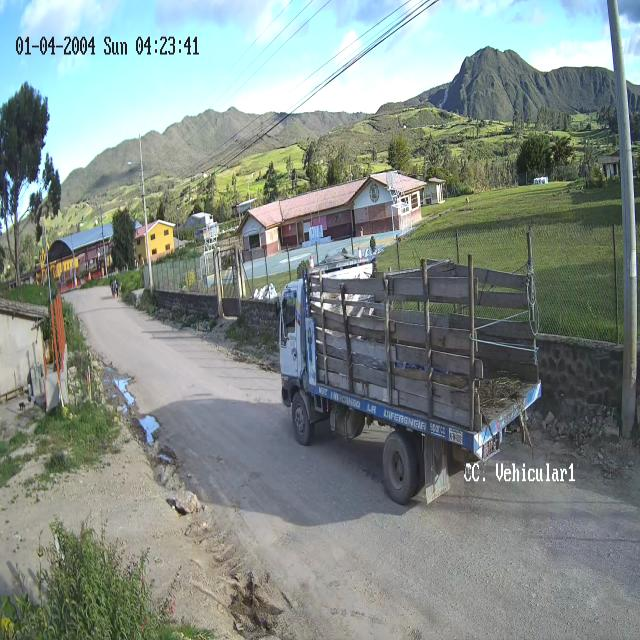TRUCK: (278, 264, 541, 506)
